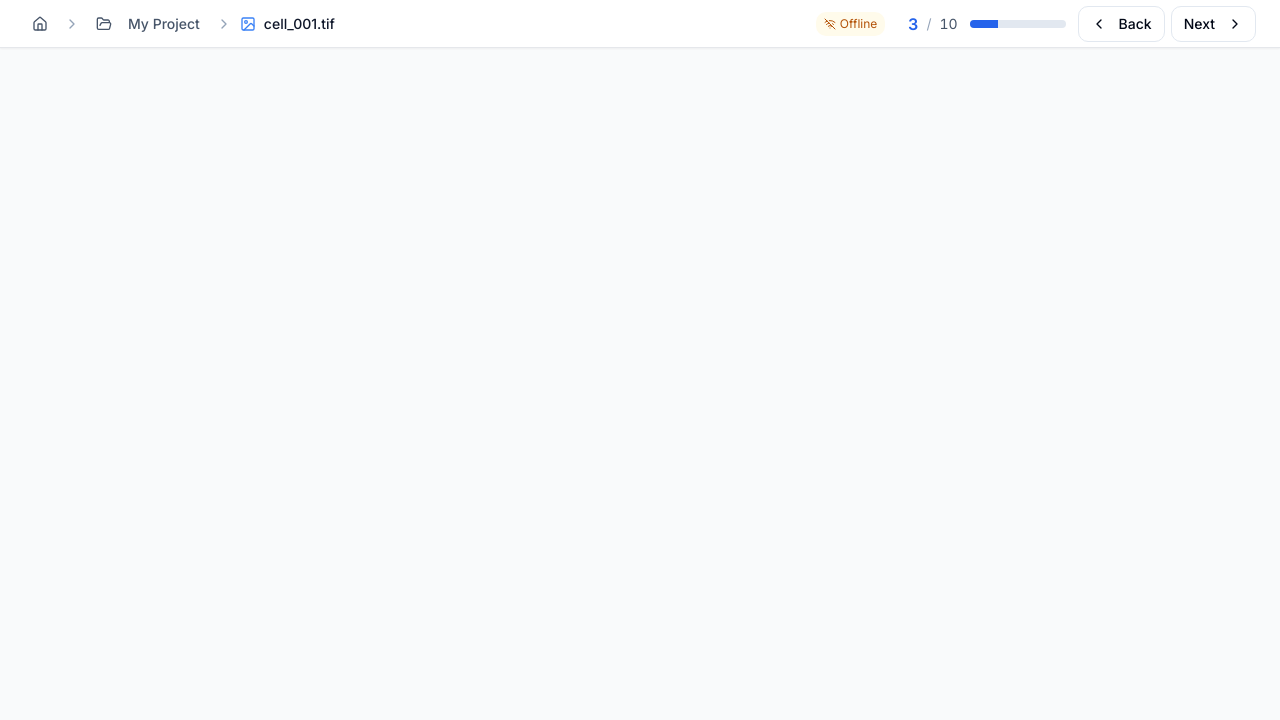
Scenario: EditorHeader › unsaved changes prompt › opens the prompt instead of navigating when there are unsaved changes
This screenshot has width=1280, height=720.
Click the button "My Project": point(148, 24) [88,6,208,42]
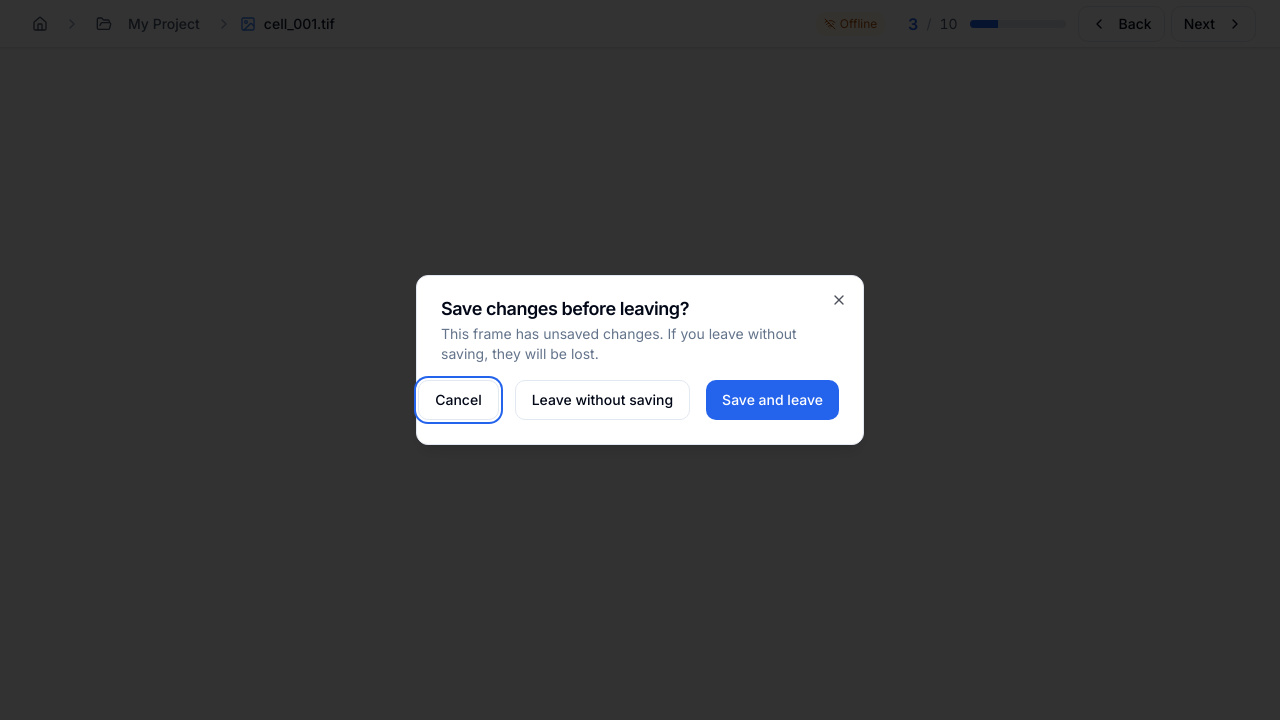
Now the heading "Save changes before leaving?" is shown, box [441,298,689,319]
Now the button with test id "unsaved-changes-save" is shown, box [706,380,839,420]
Now the button with test id "unsaved-changes-discard" is shown, box [515,380,690,420]
